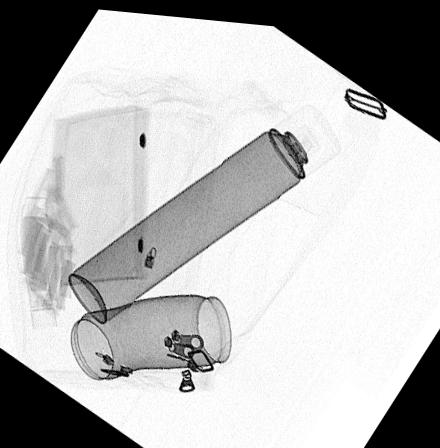Sprayer: (65, 96, 343, 324)
